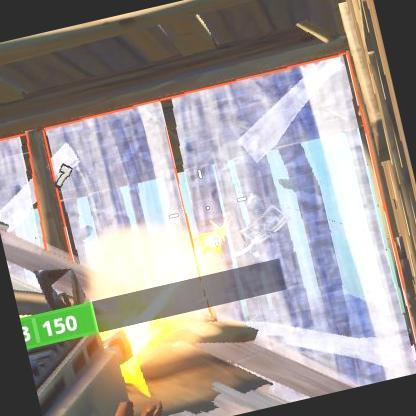person: (233, 182, 314, 310)
